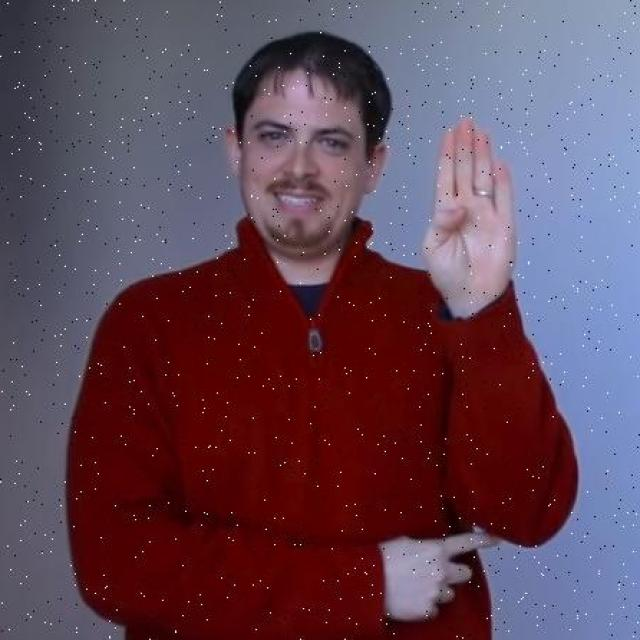B: (420, 114, 520, 296)
